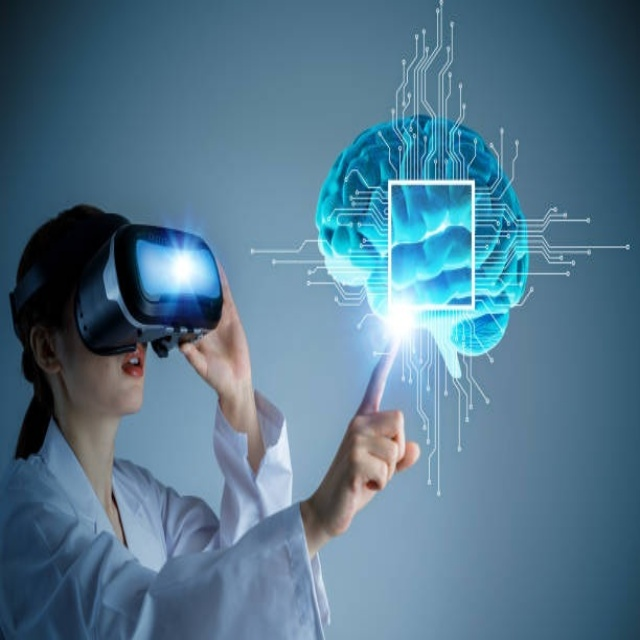Sin_guantes: (312, 339, 418, 541), (176, 243, 250, 400)
Sin_mascara: (106, 342, 151, 409)
